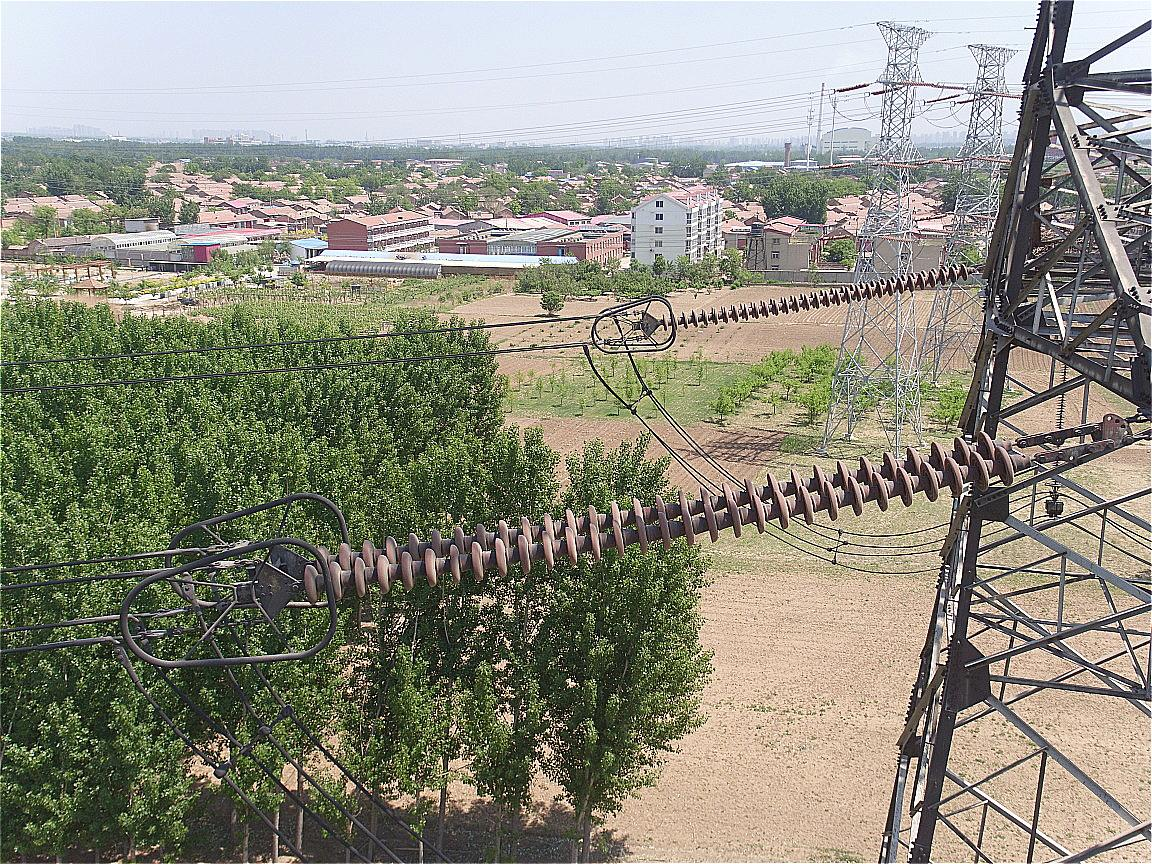insultor1: (300, 430, 1014, 603), (662, 261, 972, 334)
